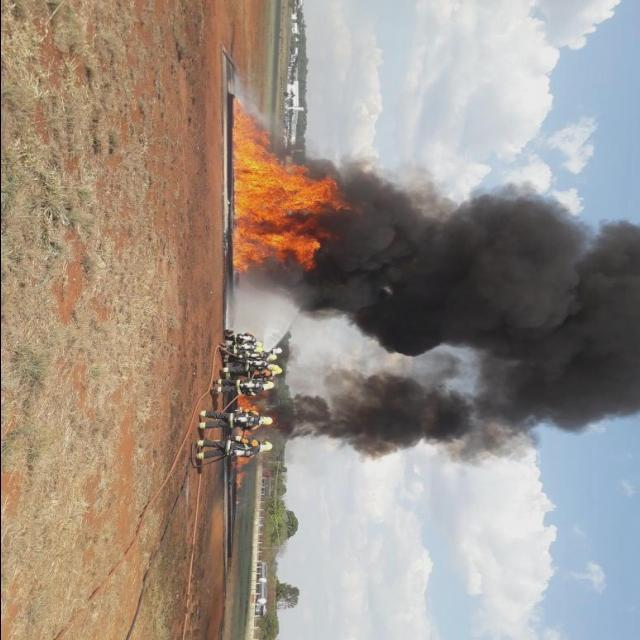Fire: (233, 104, 351, 272), (234, 456, 254, 488), (237, 394, 262, 410)
